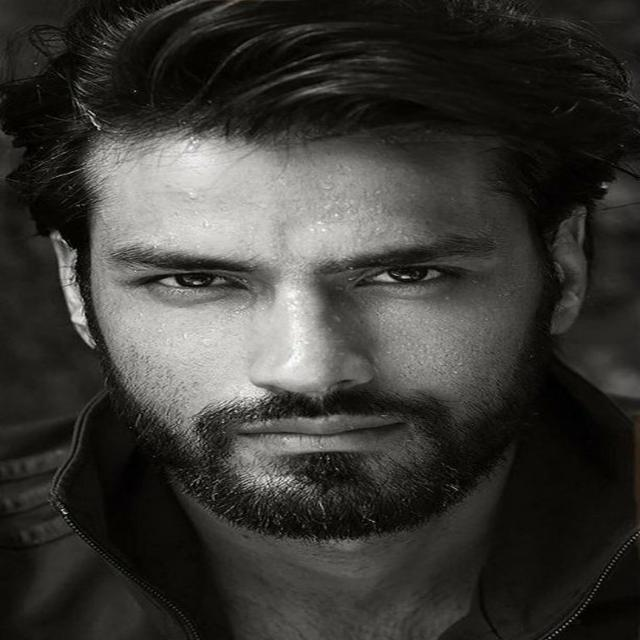earlobe: (544, 299, 581, 336), (70, 311, 99, 350)
eye: (356, 263, 457, 286), (156, 271, 248, 291)
nose: (252, 378, 379, 417)
wholeear: (46, 231, 100, 351), (545, 206, 590, 336)
